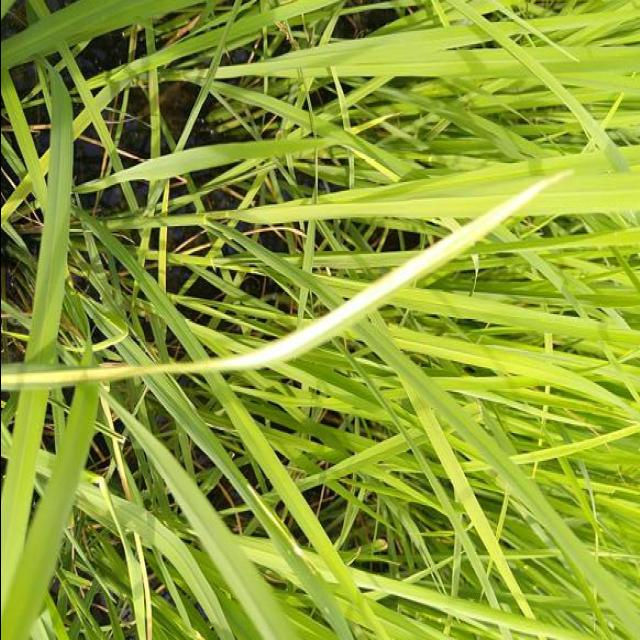Leaf Blight: (0, 169, 573, 389)
